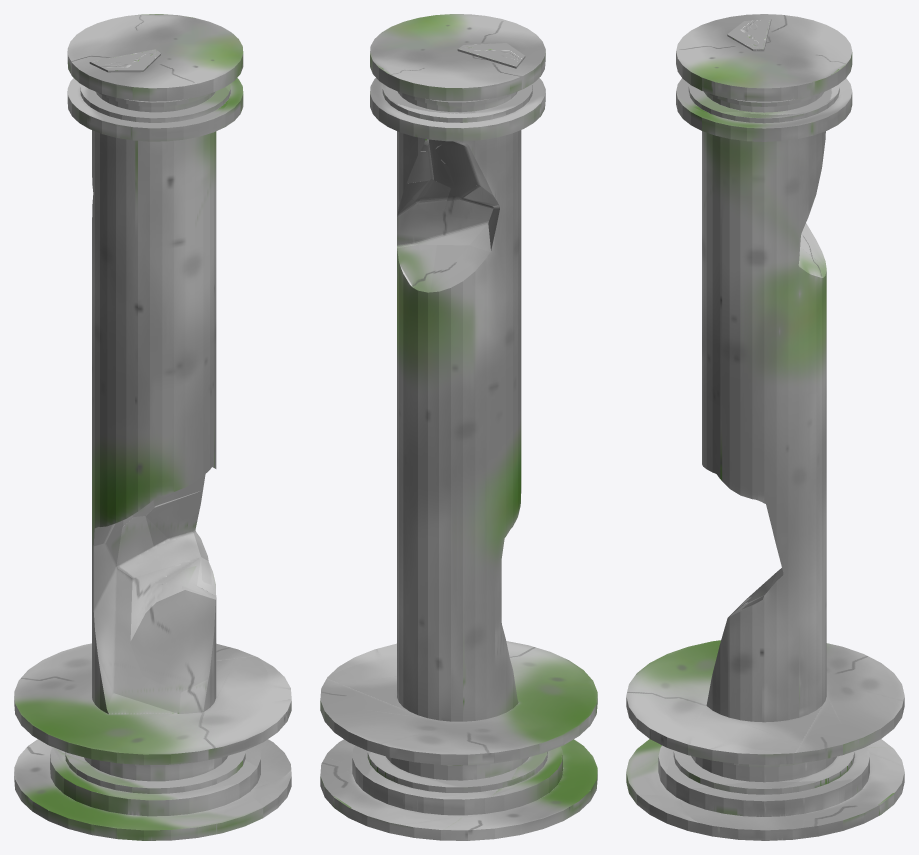
The model's file is colone1 cassé.fbx.
3 renders of one model, left to right at view 1: azimuth 30°, elevation 25°; view 2: azimuth 150°, elevation 25°; view 3: azimuth 270°, elevation 25°, orthographic.
Visible parts, largest first — view 1: Cylindre.002, Cylindre.002_cell.058, Cylindre.002_cell.082, Cylindre.002_cell.002, Cylindre.002_cell.027, Cylindre.002_cell.005, Cylindre.002_cell.053, Cylindre.002_cell.073, Cylindre.002_cell, Cylindre.002_cell.084, Cylindre.002_cell.069, Cylindre.002_cell.004; view 2: Cylindre.002, Cylindre.002_cell.058, Cylindre.002_cell.044, Cylindre.002_cell.005, Cylindre.002_cell.049, Cylindre.002_cell.089, Cylindre.002_cell.092, Cylindre.002_cell.096, Cylindre.002_cell.027, Cylindre.002_cell.069, Cylindre.002_cell, Cylindre.002_cell.073 (+3 smaller); view 3: Cylindre.002, Cylindre.002_cell.096, Cylindre.002_cell.027, Cylindre.002_cell.058, Cylindre.002_cell.048, Cylindre.002_cell.007, Cylindre.002_cell.073, Cylindre.002_cell.069, Cylindre.002_cell.003.
Part boxes in pixels (x1,y1,x2,y2): Cylindre.002: (14, 14, 291, 840); Cylindre.002_cell.058: (95, 169, 216, 357); Cylindre.002_cell.082: (100, 351, 194, 497); Cylindre.002_cell.002: (114, 140, 169, 192); Cylindre.002_cell.027: (146, 490, 216, 595); Cylindre.002_cell.005: (92, 350, 107, 488); Cylindre.002_cell.053: (116, 516, 154, 599); Cylindre.002_cell.073: (89, 49, 160, 72); Cylindre.002_cell: (15, 704, 78, 738); Cylindre.002_cell.084: (95, 475, 115, 526); Cylindre.002_cell.069: (28, 645, 91, 670); Cylindre.002_cell.004: (162, 744, 236, 764); Cylindre.002: (320, 14, 597, 840); Cylindre.002_cell.058: (430, 150, 521, 359); Cylindre.002_cell.044: (444, 548, 501, 646); Cylindre.002_cell.005: (482, 359, 518, 506); Cylindre.002_cell.049: (434, 500, 512, 570); Cylindre.002_cell.089: (421, 367, 488, 539); Cylindre.002_cell.092: (401, 615, 507, 662); Cylindre.002_cell.096: (397, 180, 450, 292); Cylindre.002_cell.027: (397, 508, 423, 618); Cylindre.002_cell.069: (388, 735, 470, 765); Cylindre.002_cell: (543, 699, 596, 751); Cylindre.002_cell.073: (457, 43, 525, 68); Cylindre.002: (626, 14, 904, 840); Cylindre.002_cell.096: (718, 177, 826, 347); Cylindre.002_cell.027: (731, 519, 825, 643); Cylindre.002_cell.058: (702, 177, 826, 338); Cylindre.002_cell.048: (730, 597, 823, 674); Cylindre.002_cell.007: (690, 745, 805, 764); Cylindre.002_cell.073: (727, 19, 771, 51); Cylindre.002_cell.069: (872, 662, 904, 694); Cylindre.002_cell.003: (638, 794, 709, 825).
Size of the model in its own units: 641 by 1864 by 641.
